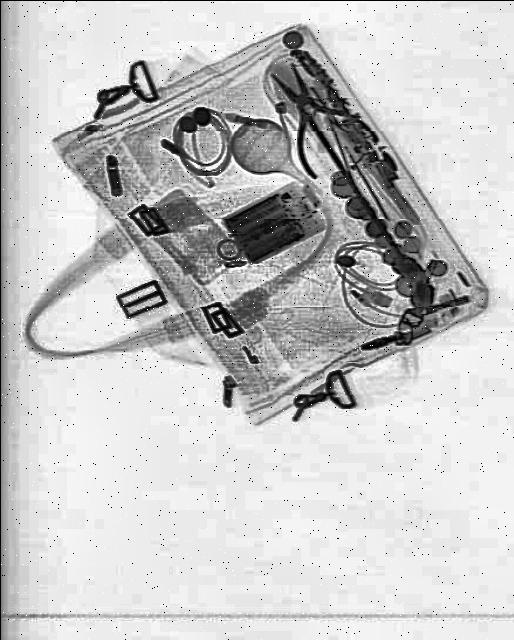Pliers: (248, 41, 380, 198)
